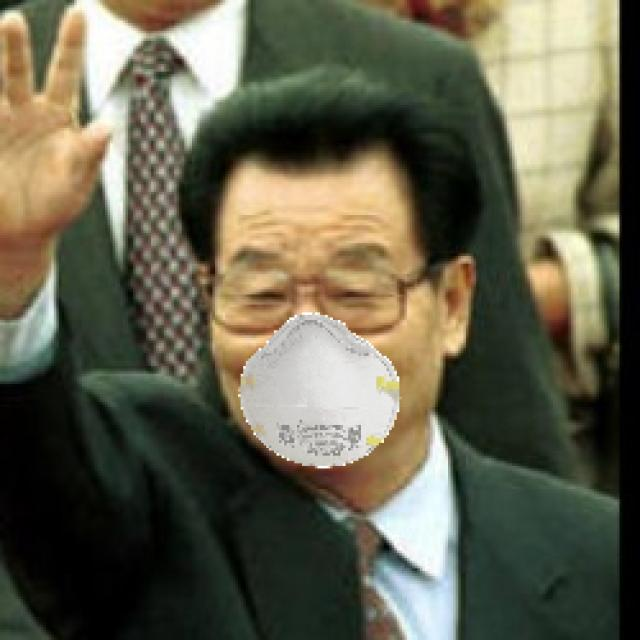mask: (206, 294, 437, 486)
